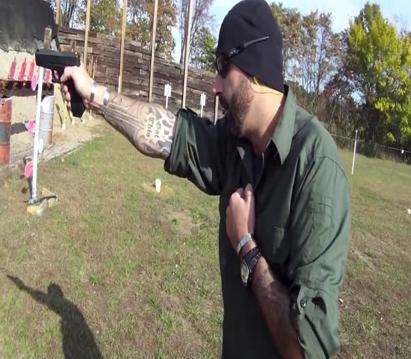pistol: (33, 47, 86, 118)
